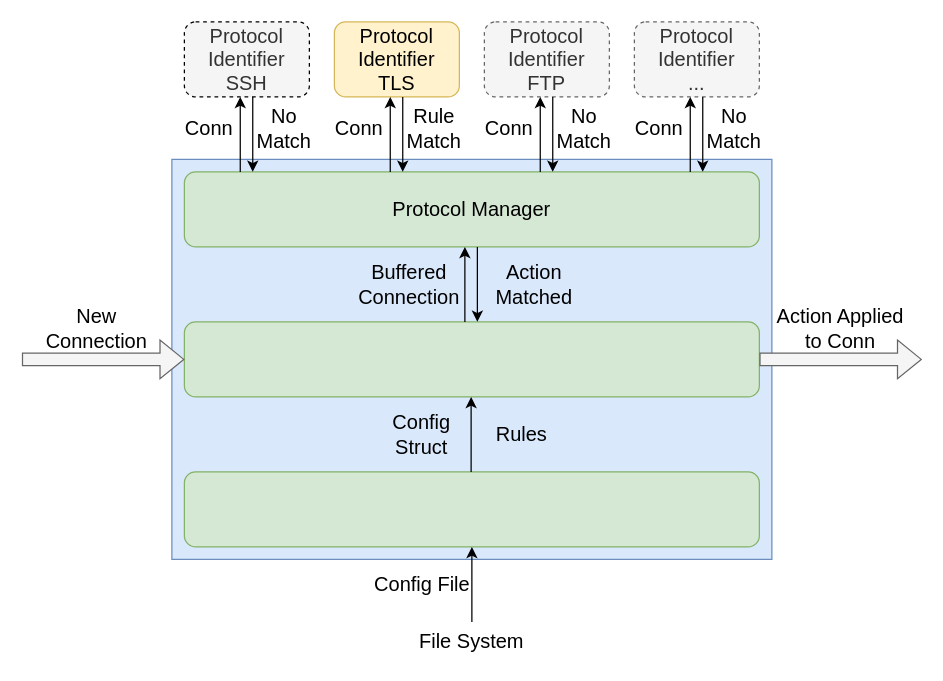
Image size: 943x681. Some labels were removed from this diagram. The box of each missing label's shape, as (x1, y1, x2, y2) in pixels:
Configuration Parser: (183, 471, 759, 547)
Connection Handler: (183, 321, 759, 397)
